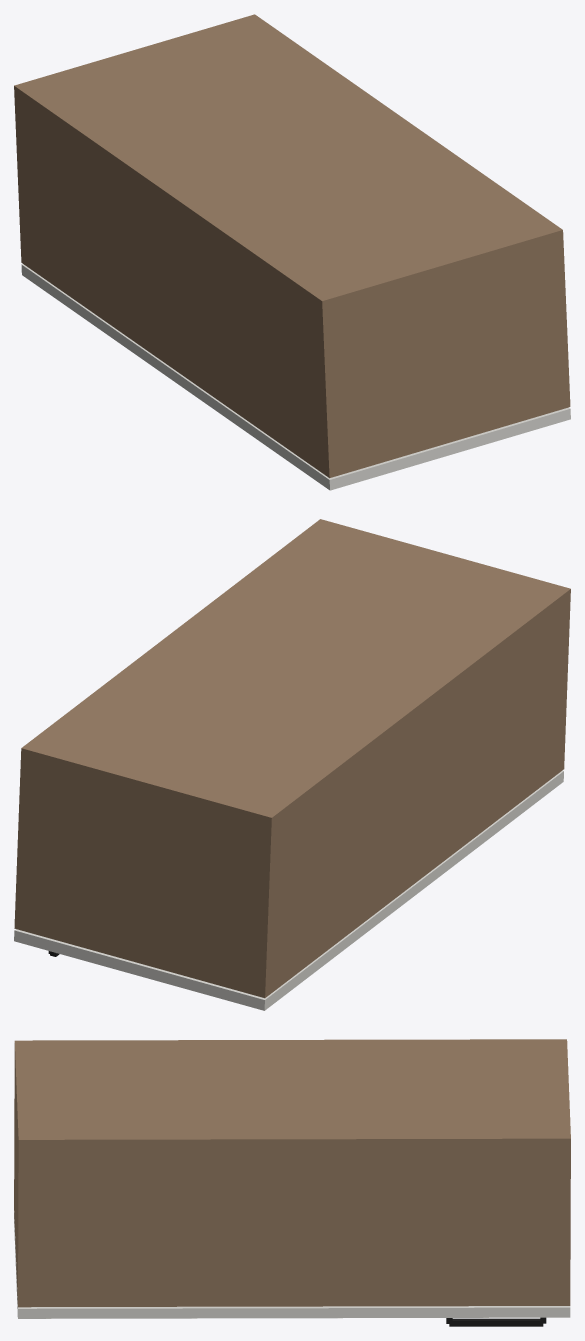
3 views of the same model, one above another, from view 1: azimuth 30°, elevation 25°; view 2: azimuth 150°, elevation 25°; view 3: azimuth 270°, elevation 25° (orthographic). The views are drawn at different scales.
Parts seen in each view (by area): view 1: cabinet_carcass/0, front_front/1; view 2: cabinet_carcass/0, front_front/1; view 3: cabinet_carcass/0, front_front/1, front_front/3.
Boxes of the visible parts, x1,y1,x2,y2 form: cabinet_carcass/0: (14,14,570,478); front_front/1: (21,264,570,490); cabinet_carcass/0: (14,519,570,998); front_front/1: (14,770,563,1010); cabinet_carcass/0: (14,1039,570,1307); front_front/1: (14,1211,570,1318); front_front/3: (446,1317,546,1326).
Size of the model in its own units: 0.454 by 0.3583 by 0.9221.
9 materials, 1 textured.
